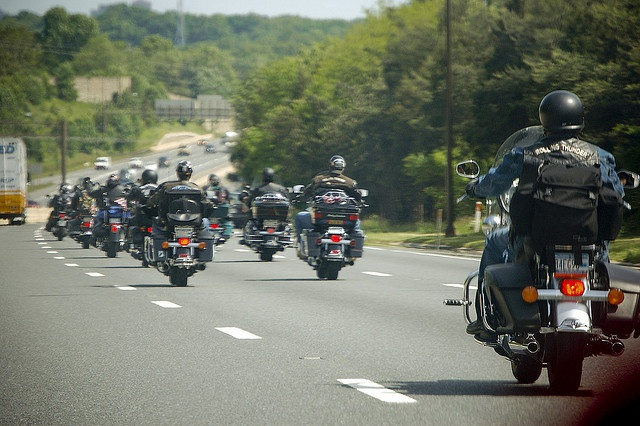non-vehicle: (442, 125, 640, 396), (292, 181, 371, 280), (157, 188, 213, 287), (243, 188, 292, 262), (97, 190, 127, 258), (124, 216, 161, 265), (208, 202, 233, 245), (78, 214, 98, 252), (51, 208, 69, 242)
